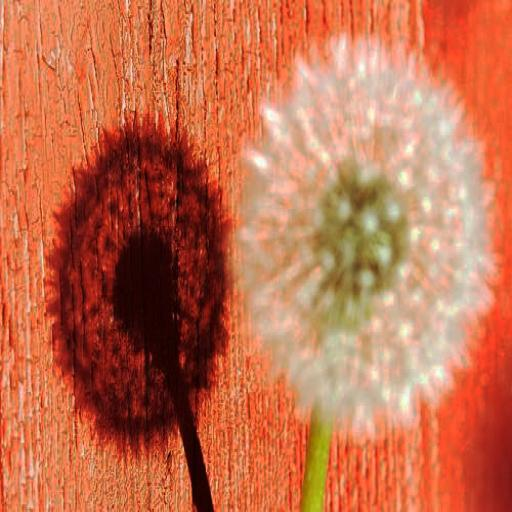dandelion: (239, 38, 512, 433)
